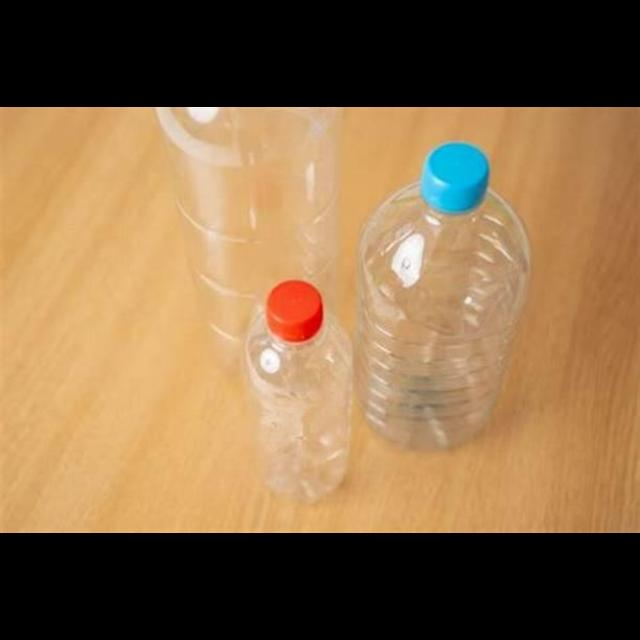garrafa plástica: (158, 108, 334, 382), (360, 182, 532, 450), (247, 312, 357, 504)
tampa plástica: (425, 143, 489, 210), (266, 278, 324, 339)
